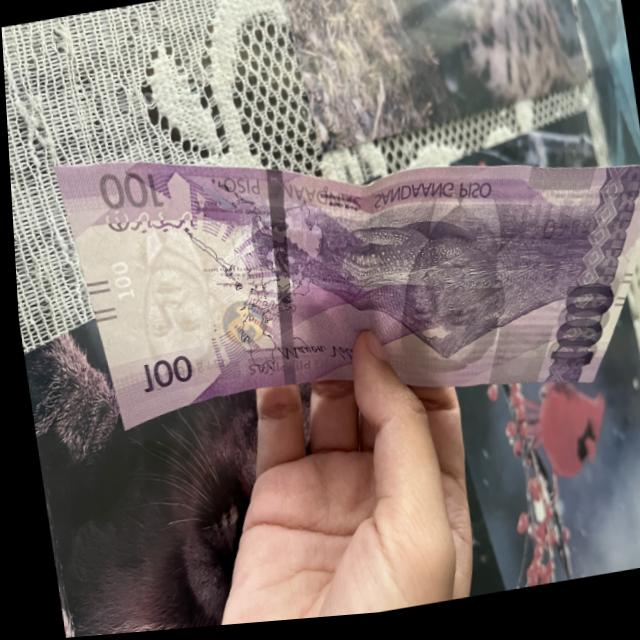security_thread: (263, 174, 291, 390)
see_through_mark: (99, 198, 197, 251)
value_watermark: (103, 256, 133, 309)
watermark: (93, 218, 227, 385)
